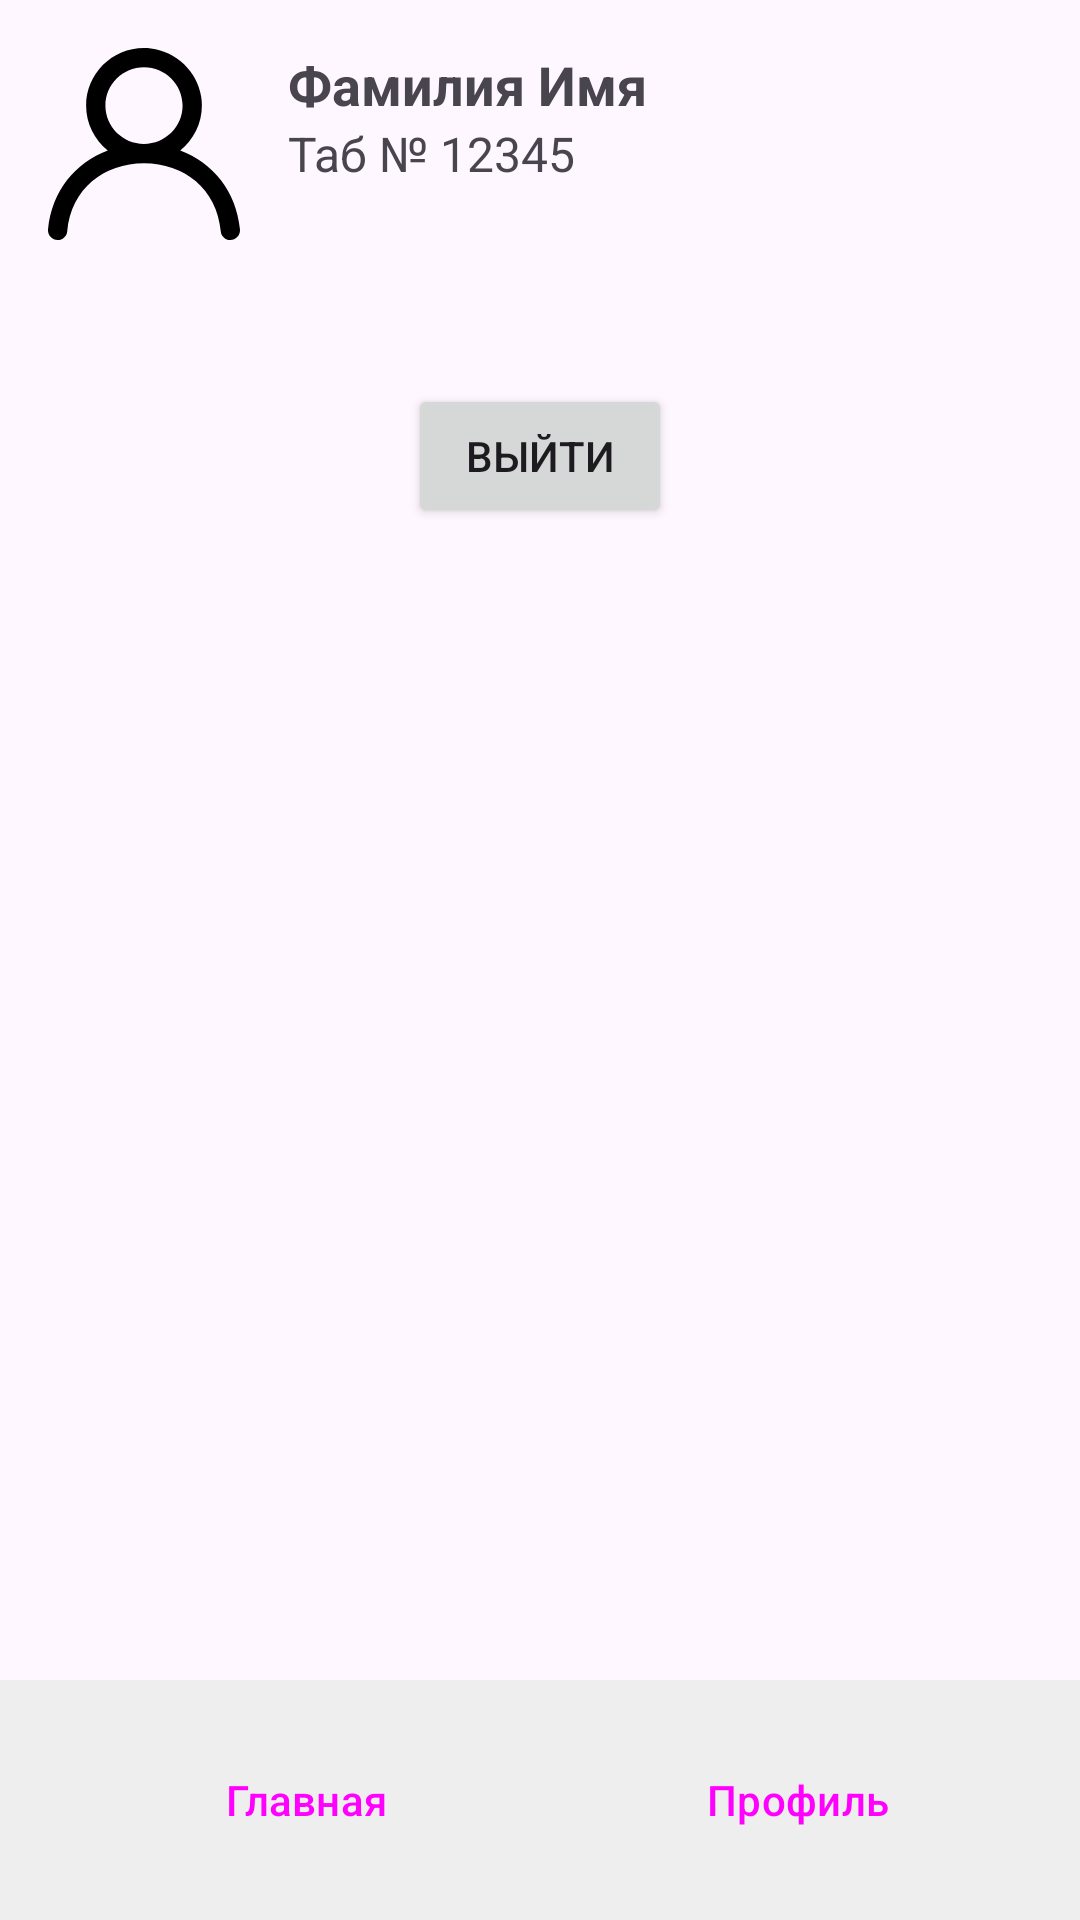

Where to tap for icons on this 1080 x 1920 app screen, as point (x, y):
Фото профиля: point (144, 144)
